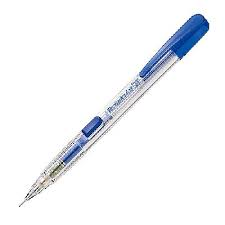pen: (18, 5, 212, 208)
